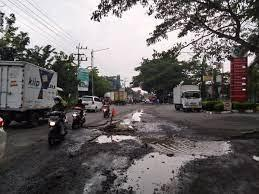Pothole: (117, 104, 239, 194), (77, 116, 135, 146)
